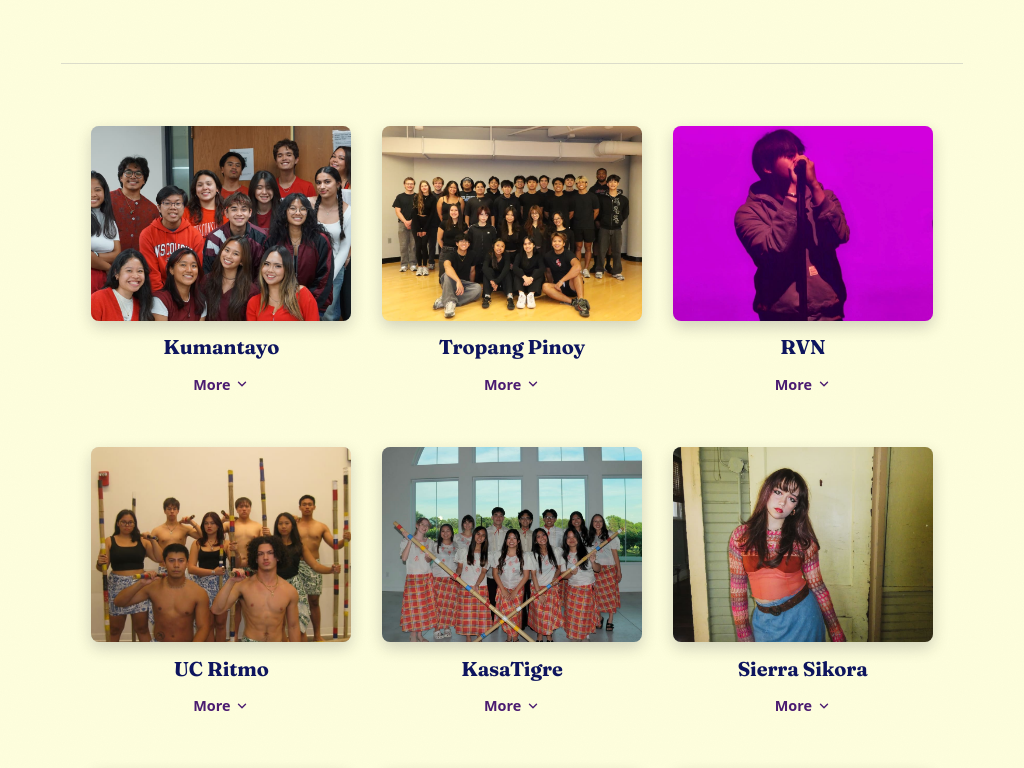
Scenario: Variety Show page › opens an act blurb and its links from the toggle
(page scrolled)
Click the button named "More about Kumantayo". click: point(221, 384)
box: [185,362,257,406]
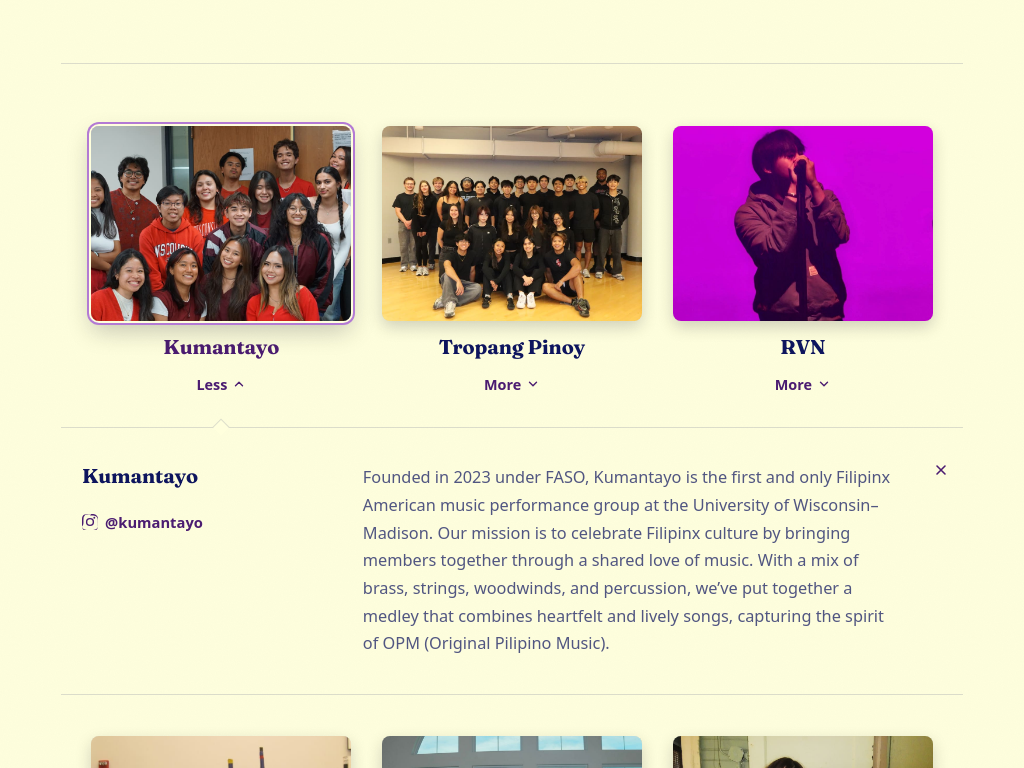
Now the button named "More about Kumantayo" is expanded, box [188,362,254,406]
Now the text "first and only Filipinx American music performance group" is shown, box [363,466,890,654]
